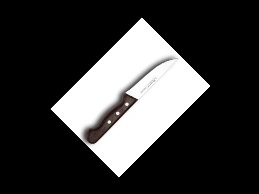k1: (122, 56, 179, 107)
